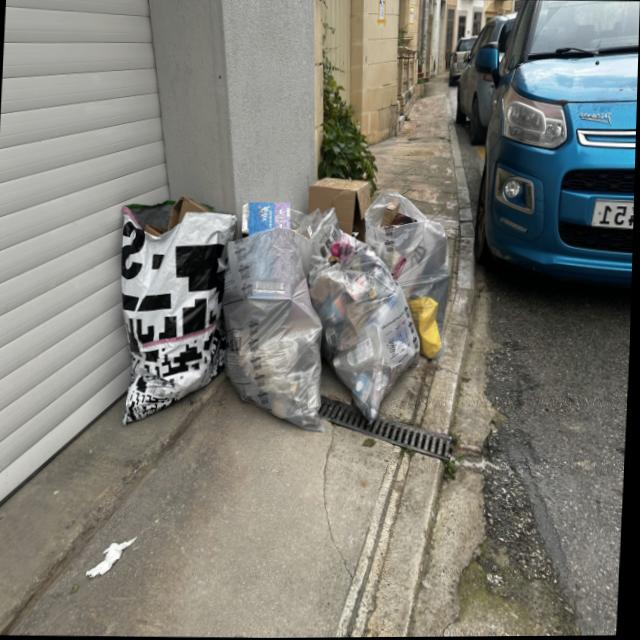Others Waste: (123, 195, 239, 423)
Recyclable Material -Grey Bags-: (225, 175, 451, 432)
